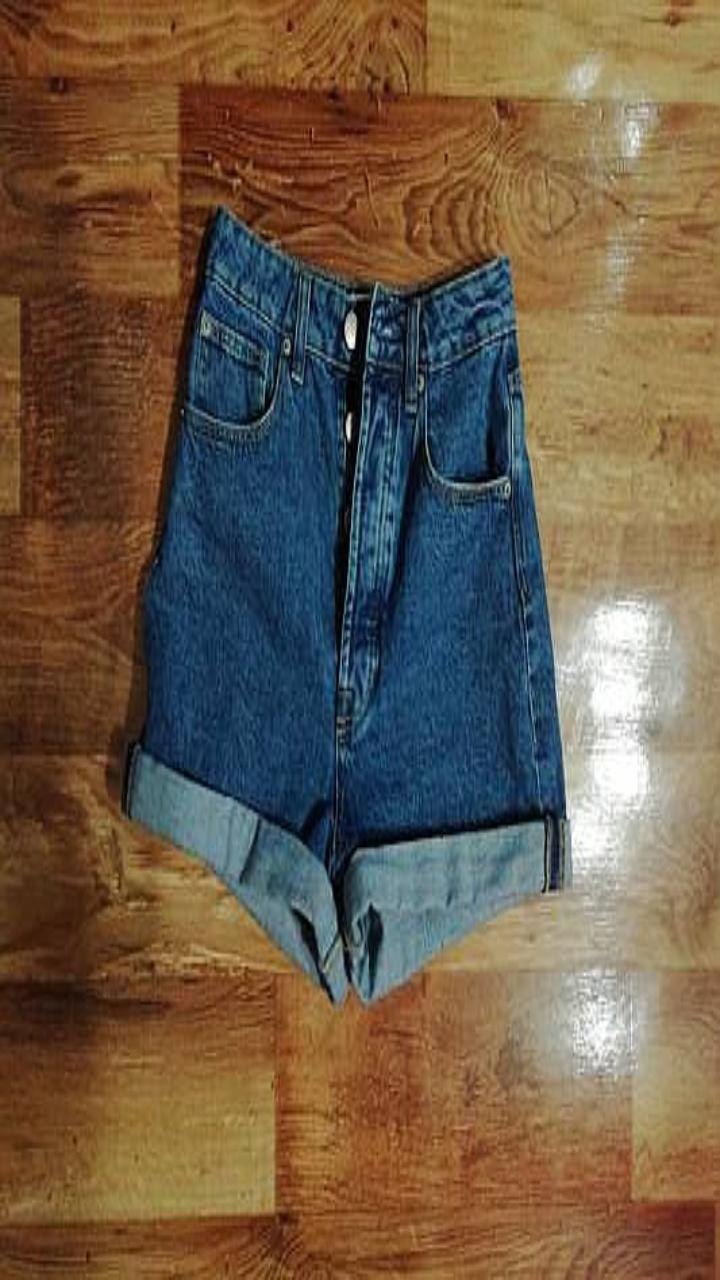Shorts: (122, 205, 571, 1002)
